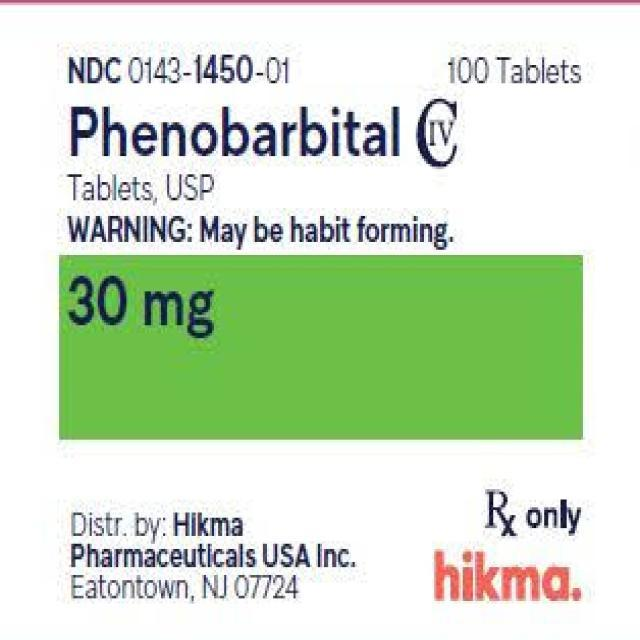drug-name: (61, 98, 409, 162)
